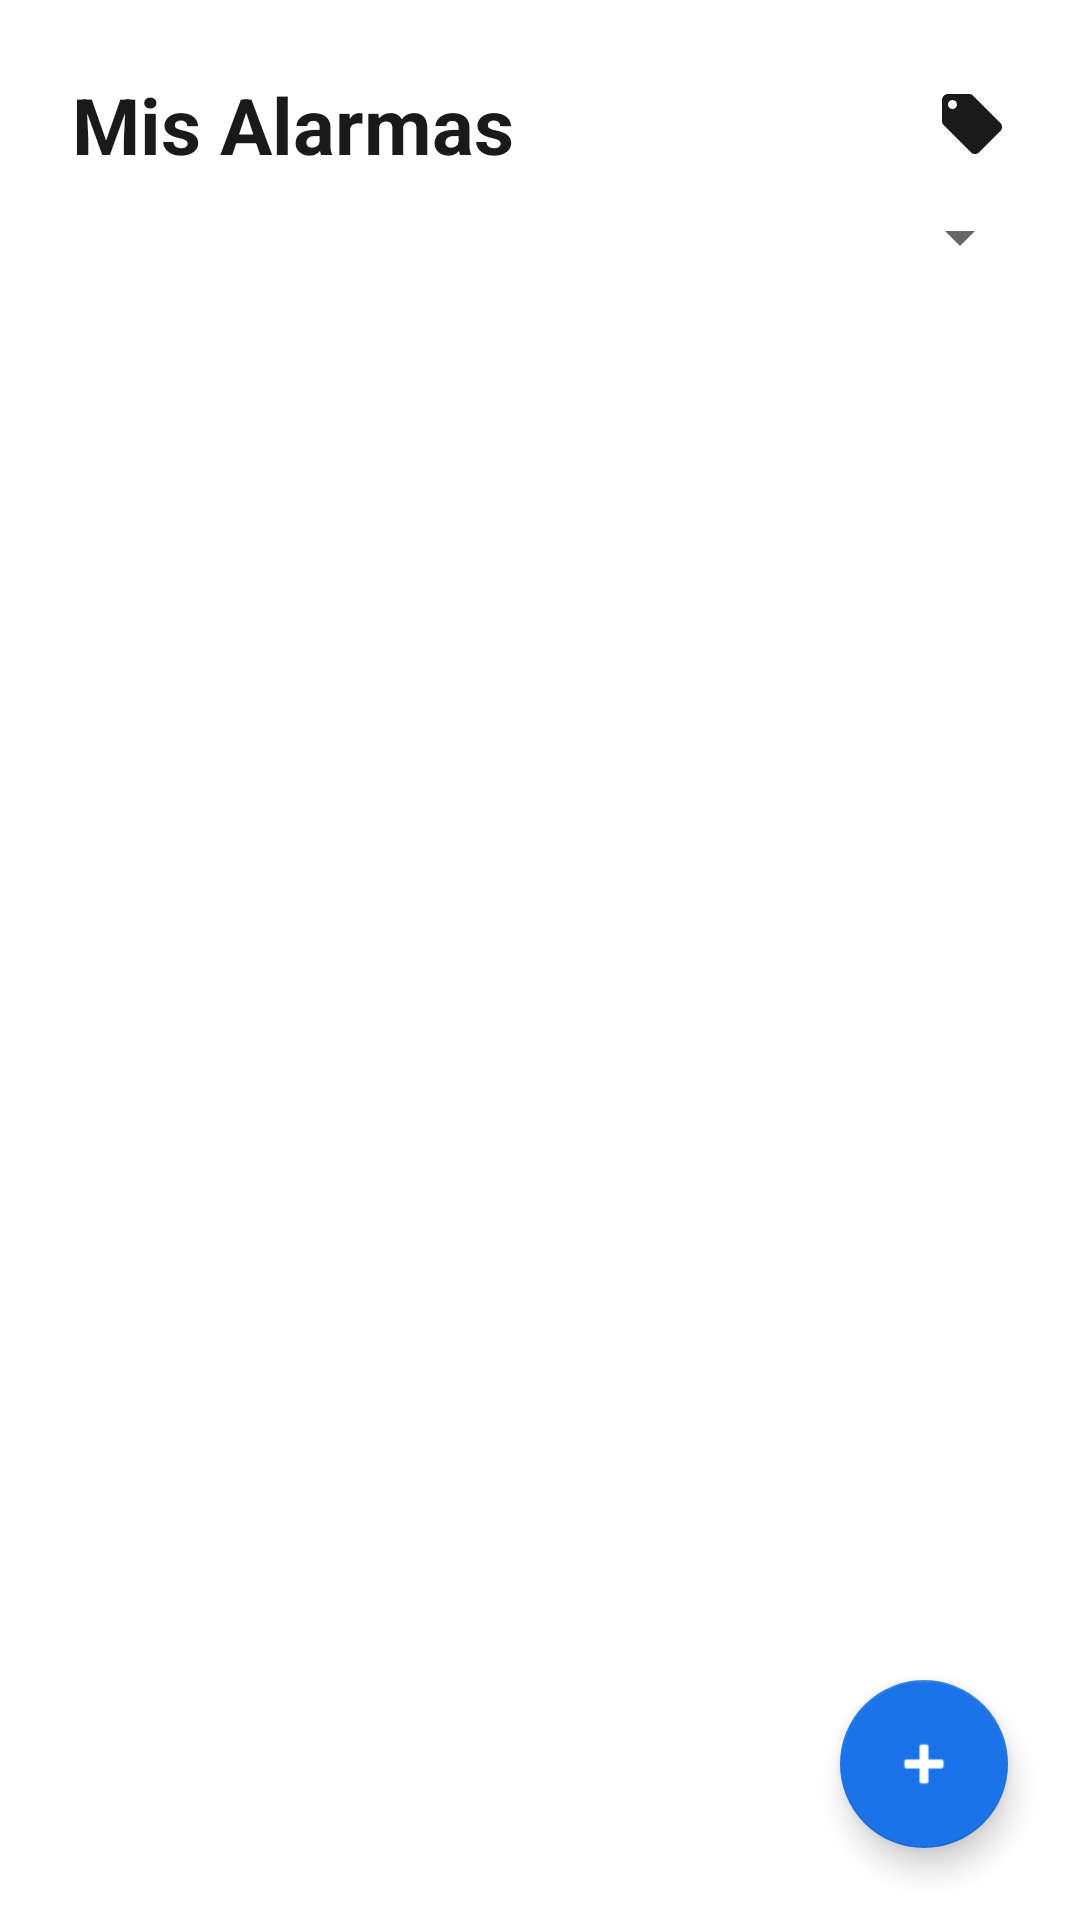

Named icons in this screenshot (1080px×1920px) and their bounding boxes, (x1, y1, x2, y2):
Añadir alarma: (840, 1680, 1008, 1848)
Gestionar categorías: (942, 94, 1002, 154)
